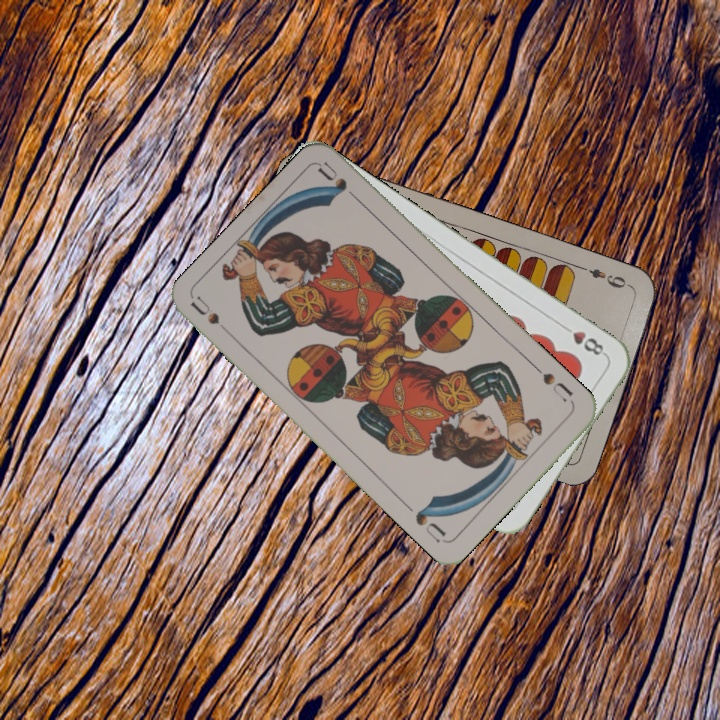E9: (576, 262, 633, 291)
H8: (557, 320, 609, 359)
SU: (187, 293, 238, 341), (530, 361, 575, 405)
